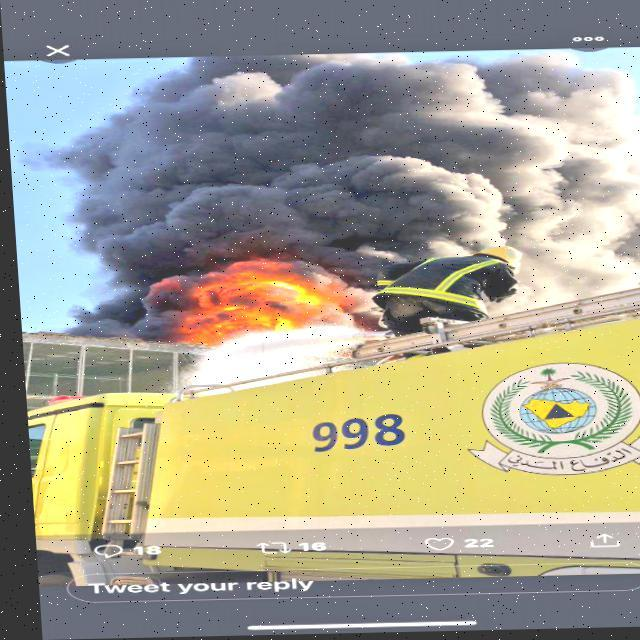Fire: (154, 254, 372, 366)
